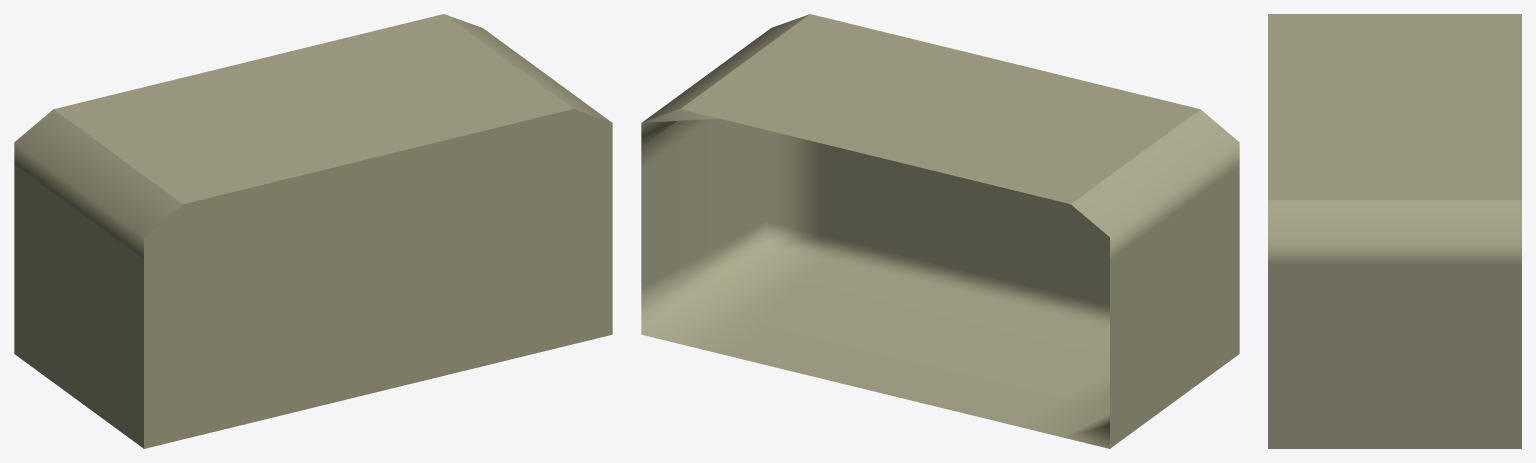
The model's file is Empty_Room.fbx.
The picture shows the model from 3 angles, left to right: view 1: azimuth 30°, elevation 25°; view 2: azimuth 150°, elevation 25°; view 3: azimuth 270°, elevation 25°; orthographic projection. The views are drawn at different scales.
Parts seen in each view (by area): view 1: pasted__pCube1; view 2: pasted__pCube1; view 3: pasted__pCube1.
Boxes of the visible parts, x1,y1,x2,y2 form: pasted__pCube1: (14,14,612,448); pasted__pCube1: (641,14,1239,448); pasted__pCube1: (1268,14,1521,448).
Size of the model in its own units: 16.71 by 8.02 by 8.02.
